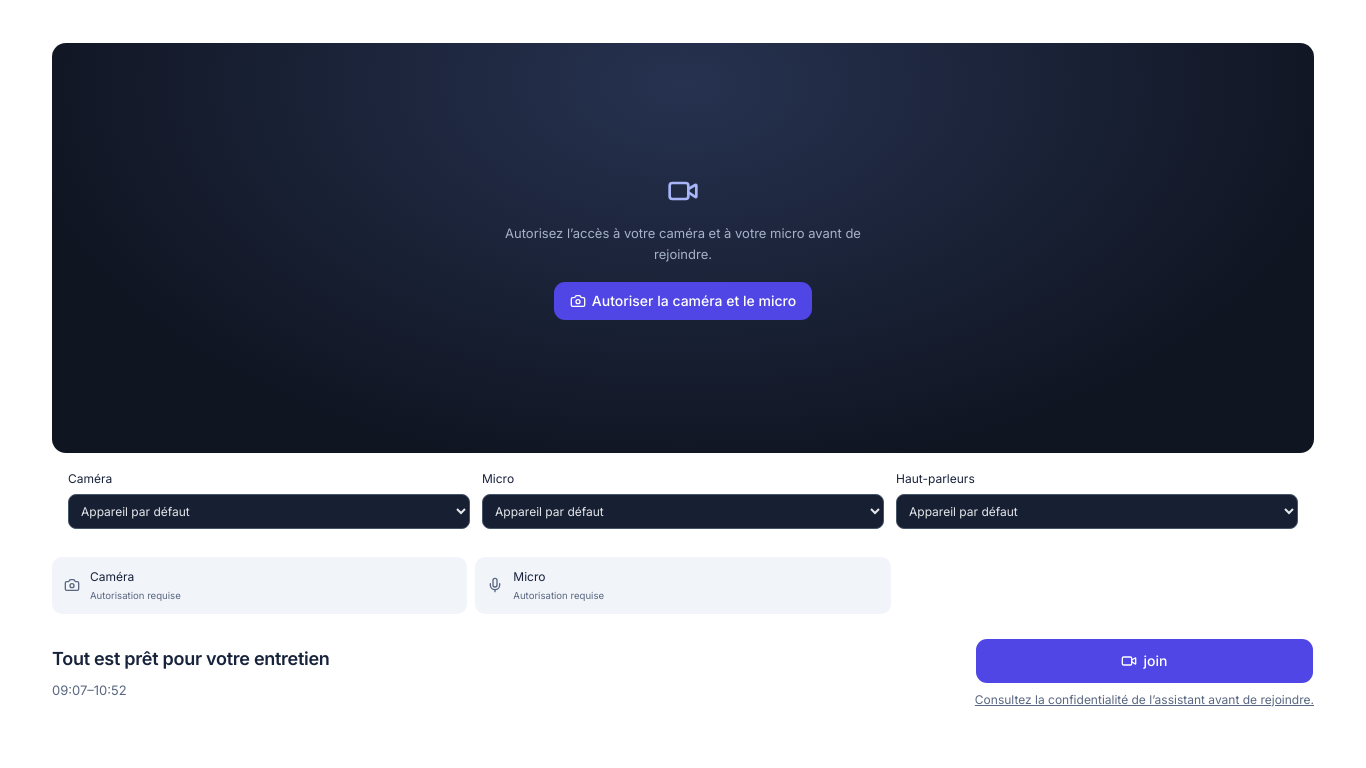
Test case: meeting lifecycle › opens consent before requesting access to the room
This screenshot has width=1366, height=768.
(page scrolled)
Click the button "join": click(1144, 661) [975,638,1314,684]
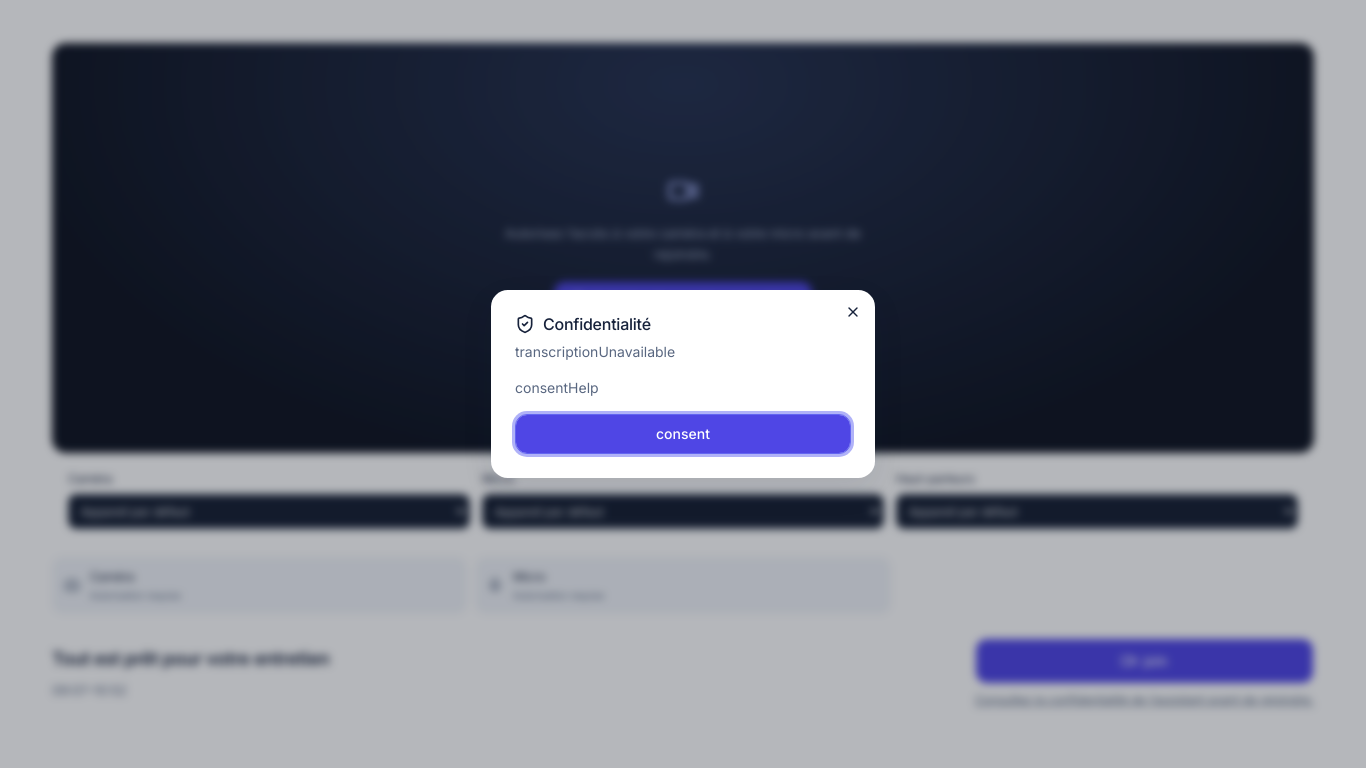
Expected: the dialog is shown, [491,290,875,478]
